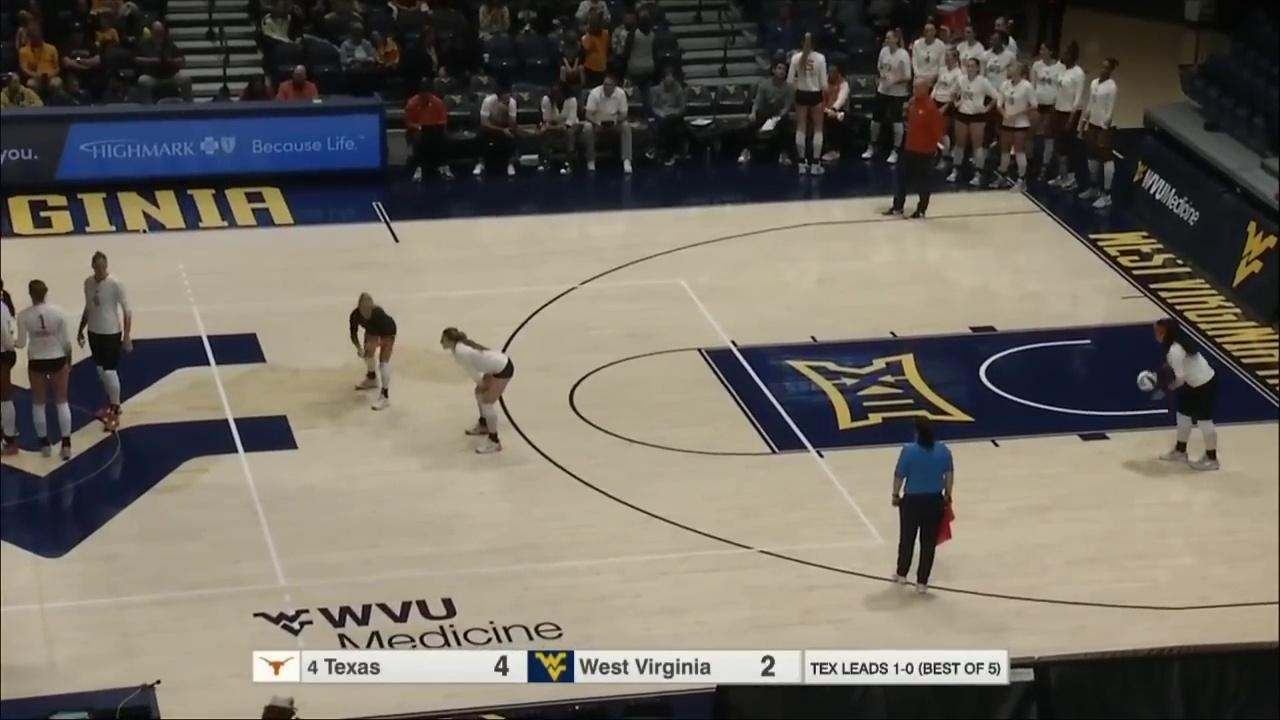player: (1146, 318, 1222, 470), (439, 328, 515, 458), (80, 252, 132, 433), (19, 282, 70, 453), (345, 286, 400, 413), (2, 279, 24, 457)
refree: (889, 422, 954, 592)
